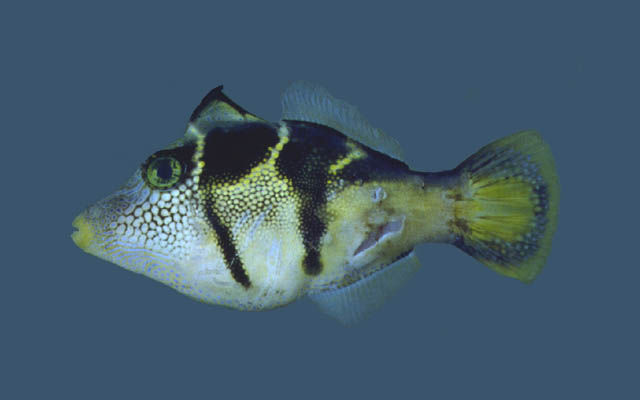fish: (68, 78, 559, 327)
